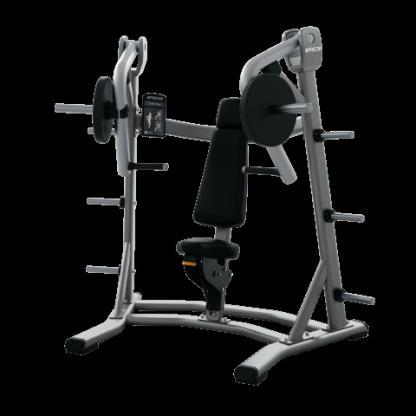Chest Press machine: (46, 23, 382, 391)
